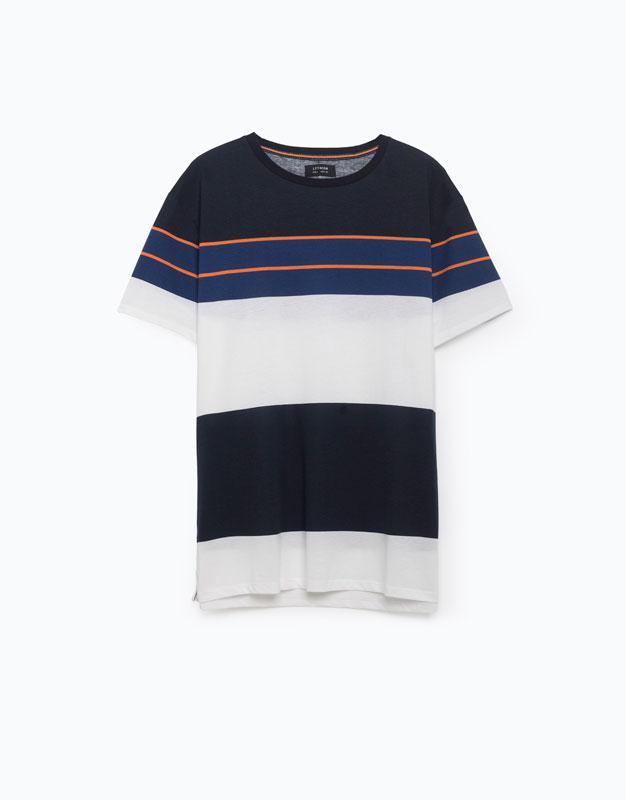teeshirt: (124, 129, 525, 617)
